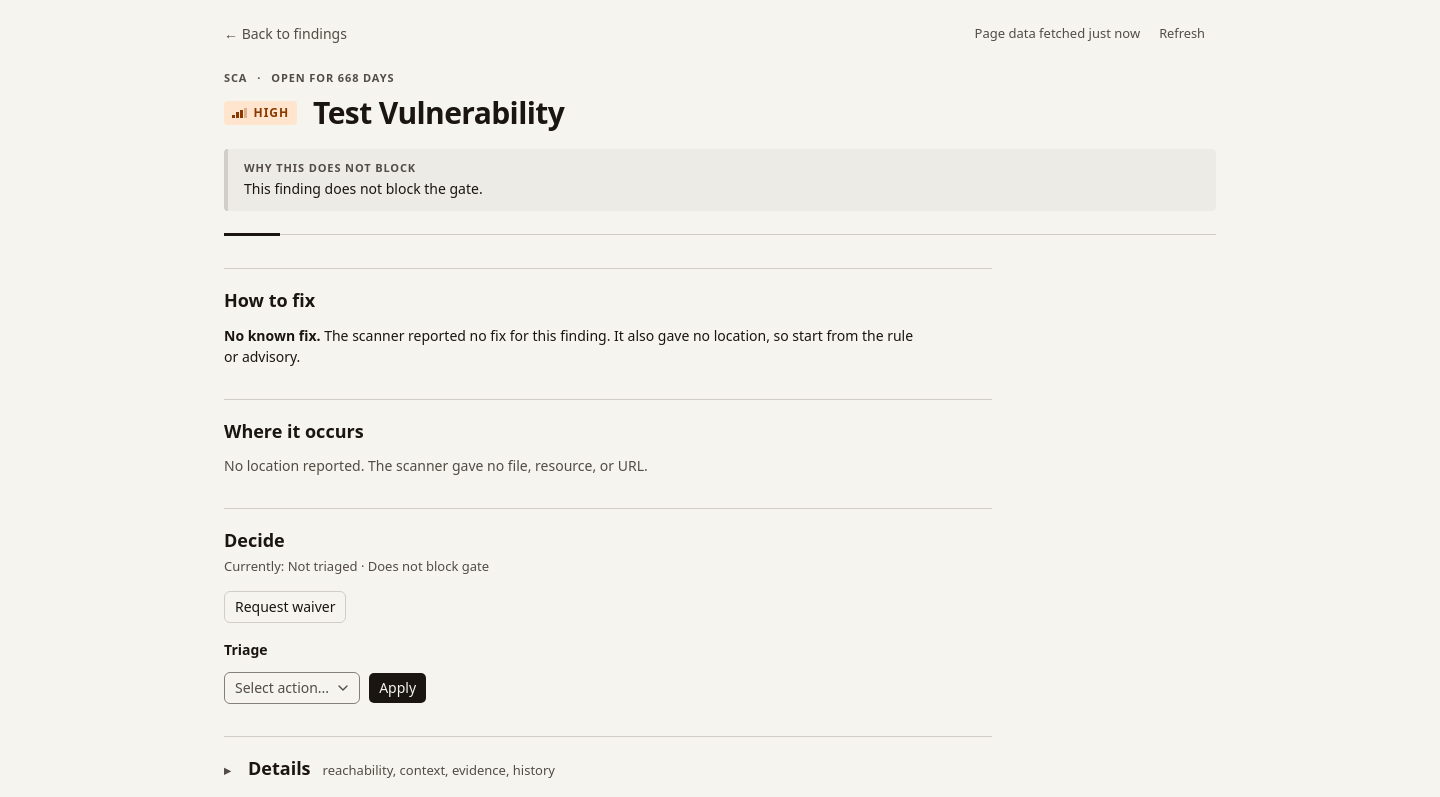
Test: FindingDetail reachability rendering › labels a reachability state instead of rendering the raw enum
Expected: the heading "Test Vulnerability" is shown, [313,96,564,129]
Click the button "▸ Details reachability, context, evidence, history".
click(279, 768)  # box [224,753,992,785]
(page scrolled)
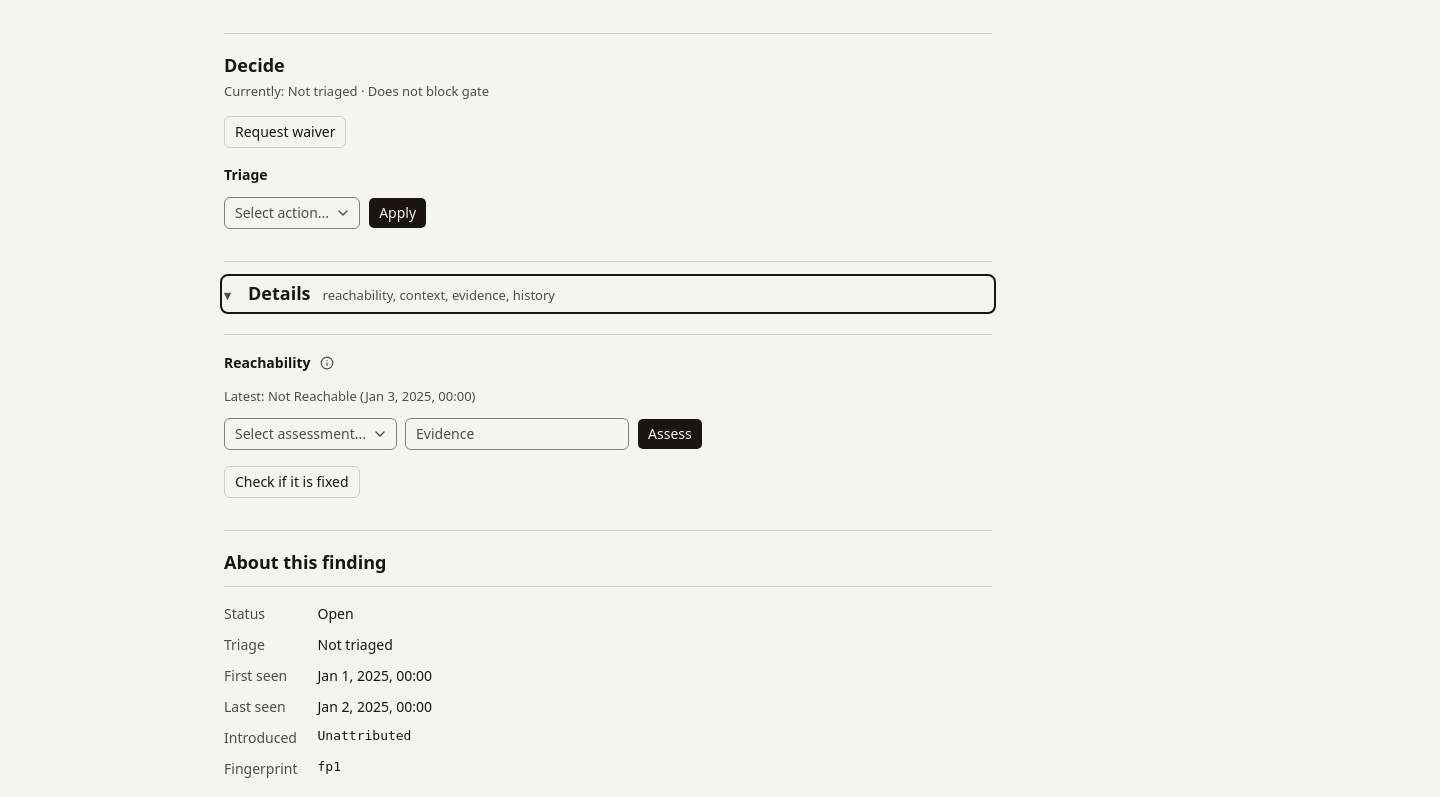
Result: the element showing "Latest: Not Reachable (Jan 3, 2025, 00:00)" is shown at [224,387,476,405]
